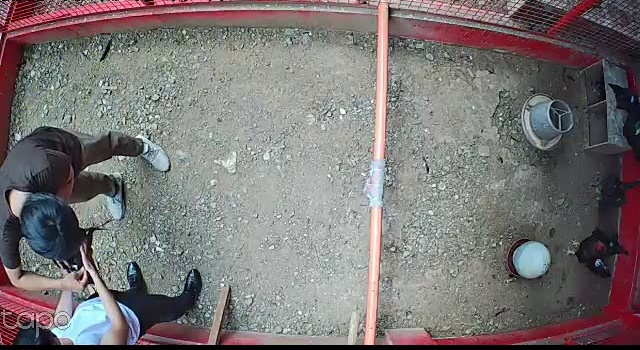Drinker: (506, 235, 554, 278)
Feeder: (519, 94, 575, 151)
Rooster: (563, 228, 618, 282), (589, 168, 640, 208)
